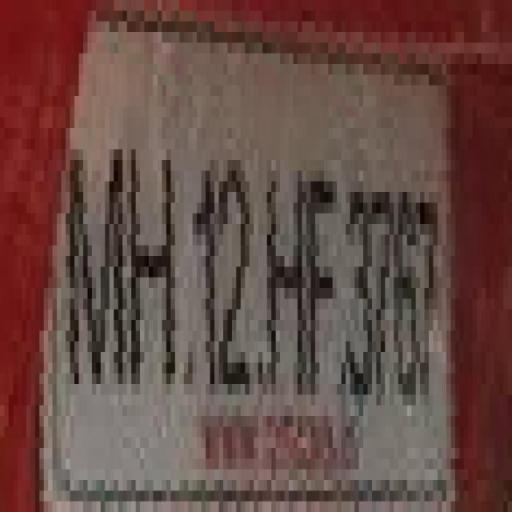number plate: (4, 42, 482, 448)
